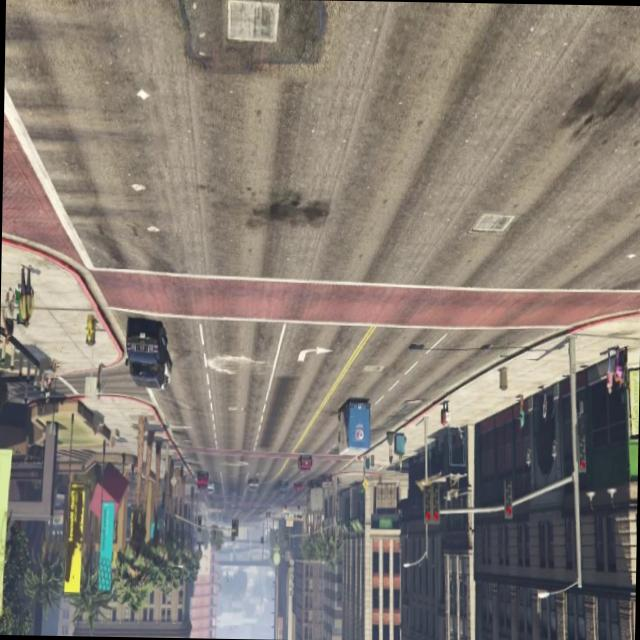Red-Signal: (414, 455, 458, 537), (569, 419, 596, 493), (498, 467, 520, 528)
